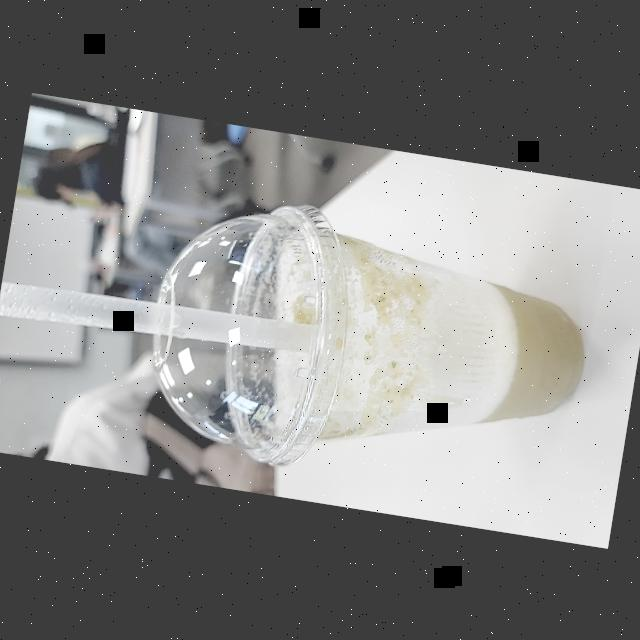plastic_cup: (131, 185, 604, 512)
plastic_cup_lid: (133, 179, 370, 474)
straw: (0, 254, 318, 381)
